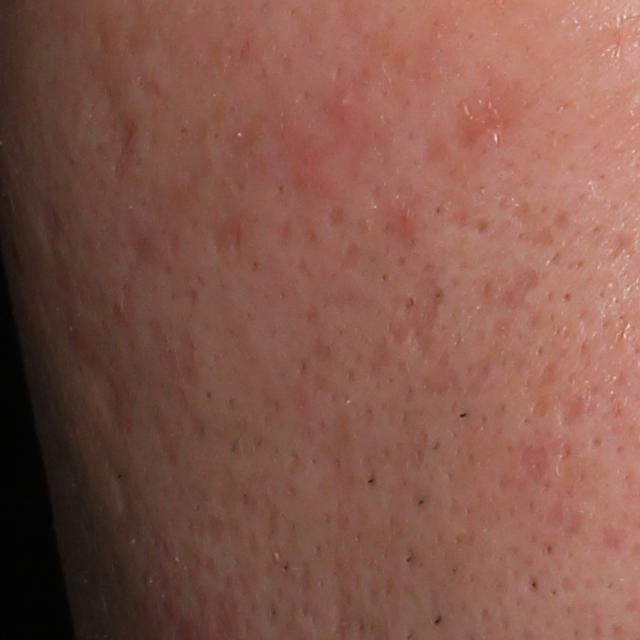atrophic_scar: (81, 345, 136, 431), (389, 270, 440, 359), (507, 198, 572, 246), (108, 458, 140, 520), (498, 265, 538, 310), (34, 201, 63, 246), (212, 217, 243, 256), (523, 445, 550, 487), (604, 233, 636, 261), (561, 391, 585, 425), (529, 394, 552, 423), (533, 361, 556, 389)
